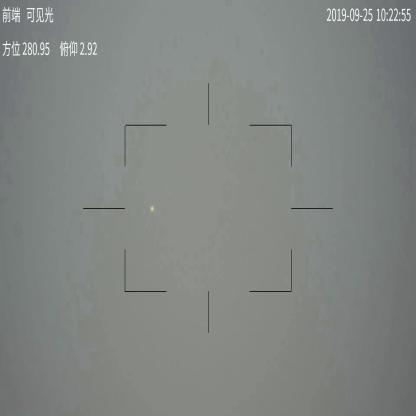uav: (147, 204, 155, 214)
